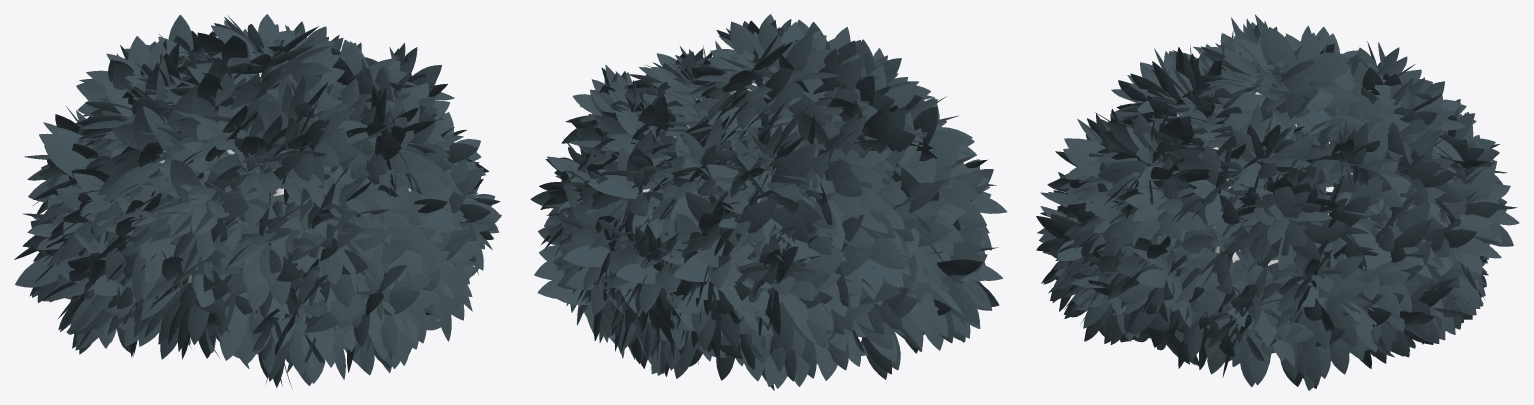
File: พุ่มไม้ น้ำเงินfbx.fbx
3 renders of one model, left to right at view 1: azimuth 30°, elevation 25°; view 2: azimuth 150°, elevation 25°; view 3: azimuth 270°, elevation 25°, orthographic. The views are drawn at different scales.
Parts seen in each view (by area): view 1: ทรงกลม|Plane.001|Dupli|1525, ทรงกลม|Plane.001|Dupli|1554, ทรงกลม|Plane.001|Dupli|1372, ทรงกลม|Plane.001|Dupli|1454, ทรงกลม|Plane.001|Dupli|552, ทรงกลม|Plane.001|Dupli|565, ทรงกลม|Plane.001|Dupli|634, ทรงกลม|Plane.001|Dupli|620, ทรงกลม|Plane.001|Dupli|1367, ทรงกลม|Plane.001|Dupli|1414, ทรงกลม|Plane.001|Dupli|1380, ทรงกลม|Plane.001|Dupli|1388 (+84 smaller); view 2: ทรงกลม|Plane.001|Dupli|1357, ทรงกลม|Plane.001|Dupli|1439, ทรงกลม|Plane.001|Dupli|1410, ทรงกลม|Plane.001|Dupli|1727, ทรงกลม|Plane.001|Dupli|1246, ทรงกลม|Plane.001|Dupli|1244, ทรงกลม|Plane.001|Dupli|1725, ทรงกลม|Plane.001|Dupli|1723, ทรงกลม|Plane.001|Dupli|1296, ทรงกลม|Plane.001|Dupli|1321, ทรงกลม|Plane.001|Dupli|1434, ทรงกลม|Plane.001|Dupli|1436 (+86 smaller); view 3: ทรงกลม|Plane.001|Dupli|1588, ทรงกลม|Plane.001|Dupli|1212, ทรงกลม|Plane.001|Dupli|319, ทรงกลม|Plane.001|Dupli|1587, ทรงกลม|Plane.001|Dupli|1576, ทรงกลม|Plane.001|Dupli|1672, ทรงกลม|Plane.001|Dupli|1715, ทรงกลม|Plane.001|Dupli|169, ทรงกลม|Plane.001|Dupli|1713, ทรงกลม|Plane.001|Dupli|1230, ทรงกลม|Plane.001|Dupli|1200, ทรงกลม|Plane.001|Dupli|1586 (+79 smaller).
Boxes of the visible parts, <box> form: ทรงกลม|Plane.001|Dupli|1525: <box>98,109,184,194</box>; ทรงกลม|Plane.001|Dupli|1554: <box>44,145,90,234</box>; ทรงกลม|Plane.001|Dupli|1372: <box>330,227,390,308</box>; ทรงกลม|Plane.001|Dupli|1454: <box>66,243,130,352</box>; ทรงกลม|Plane.001|Dupli|552: <box>149,159,201,243</box>; ทรงกลม|Plane.001|Dupli|565: <box>112,84,198,189</box>; ทรงกลม|Plane.001|Dupli|634: <box>175,73,260,142</box>; ทรงกลม|Plane.001|Dupli|620: <box>15,194,59,287</box>; ทรงกลม|Plane.001|Dupli|1367: <box>380,274,432,354</box>; ทรงกลม|Plane.001|Dupli|1414: <box>103,157,173,202</box>; ทรงกลม|Plane.001|Dupli|1380: <box>288,300,362,375</box>; ทรงกลม|Plane.001|Dupli|1388: <box>239,174,328,227</box>; ทรงกลม|Plane.001|Dupli|1357: <box>685,192,776,259</box>; ทรงกลม|Plane.001|Dupli|1439: <box>860,180,905,269</box>; ทรงกลม|Plane.001|Dupli|1410: <box>933,135,986,227</box>; ทรงกลม|Plane.001|Dupli|1727: <box>766,33,825,125</box>; ทรงกลม|Plane.001|Dupli|1246: <box>771,147,809,242</box>; ทรงกลม|Plane.001|Dupli|1244: <box>771,269,830,353</box>; ทรงกลม|Plane.001|Dupli|1725: <box>758,20,838,74</box>; ทรงกลม|Plane.001|Dupli|1723: <box>715,21,820,98</box>; ทรงกลม|Plane.001|Dupli|1296: <box>563,245,637,313</box>; ทรงกลม|Plane.001|Dupli|1321: <box>706,155,776,254</box>; ทรงกลม|Plane.001|Dupli|1434: <box>832,115,867,196</box>; ทรงกลม|Plane.001|Dupli|1436: <box>830,149,891,218</box>; ทรงกลม|Plane.001|Dupli|1588: <box>1172,219,1276,317</box>; ทรงกลม|Plane.001|Dupli|1212: <box>1230,177,1347,262</box>; ทรงกลม|Plane.001|Dupli|319: <box>1097,112,1202,182</box>; ทรงกลม|Plane.001|Dupli|1587: <box>1206,301,1314,385</box>; ทรงกลม|Plane.001|Dupli|1576: <box>1319,188,1370,270</box>; ทรงกลม|Plane.001|Dupli|1672: <box>1233,128,1314,163</box>; ทรงกลม|Plane.001|Dupli|1715: <box>1246,32,1360,107</box>; ทรงกลม|Plane.001|Dupli|169: <box>1245,177,1320,268</box>; ทรงกลม|Plane.001|Dupli|1713: <box>1261,30,1342,106</box>; ทรงกลม|Plane.001|Dupli|1230: <box>1469,165,1513,246</box>; ทรงกลม|Plane.001|Dupli|1200: <box>1240,211,1332,244</box>; ทรงกลม|Plane.001|Dupli|1586: <box>1195,283,1302,386</box>.
Bounding box in the file's own units: 273 × 177 × 272.
